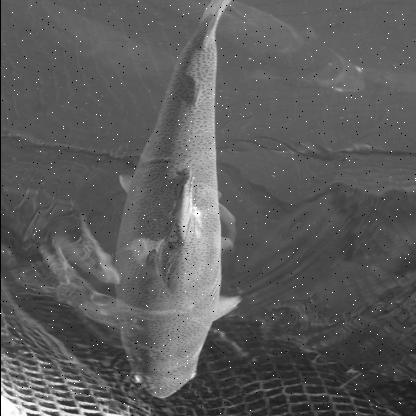fish: (86, 0, 249, 406)
